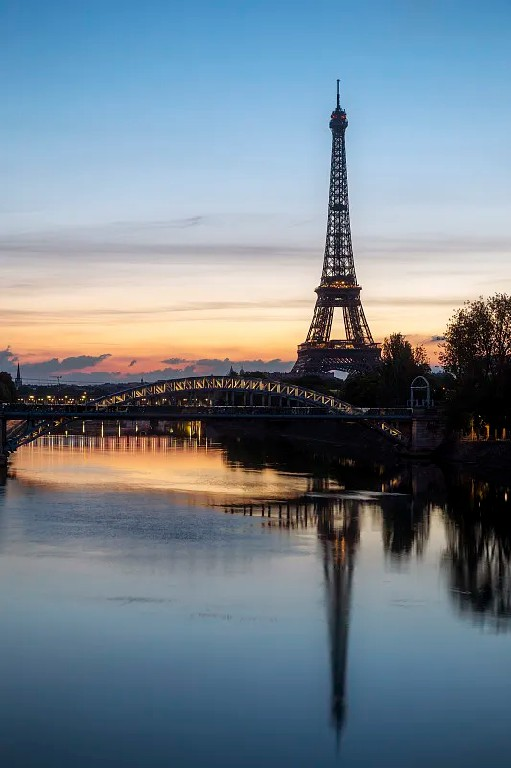Eiffel: (291, 81, 382, 377)
